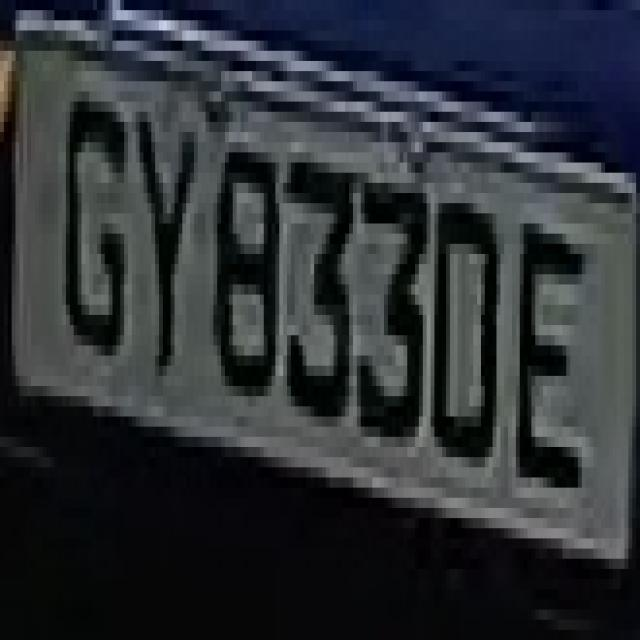0: (419, 193, 504, 508)
3: (357, 132, 423, 508), (291, 142, 357, 498)
8: (210, 81, 280, 437)
E: (516, 162, 597, 548)
G: (62, 91, 132, 386)
Y: (128, 101, 209, 376)
